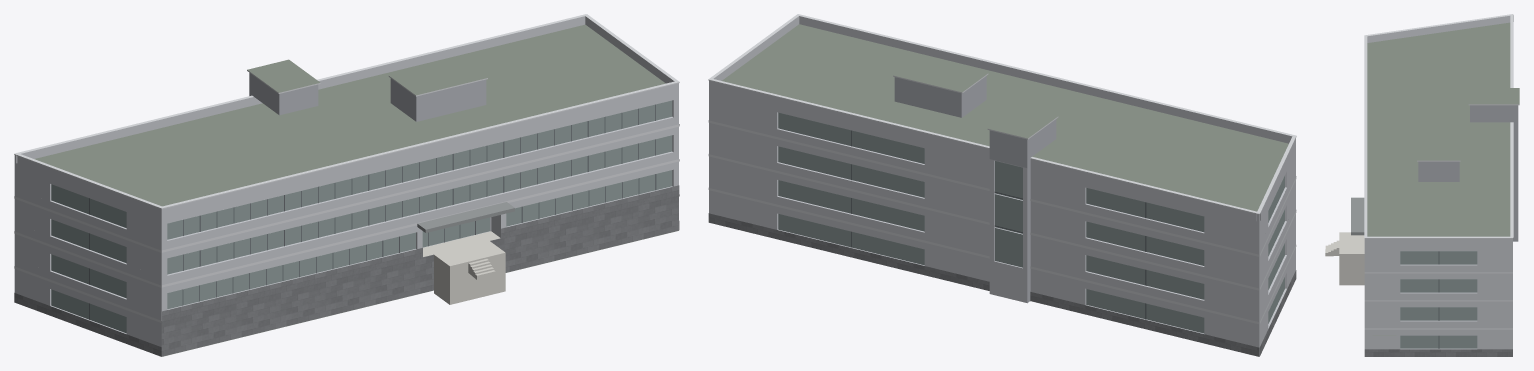
3 views of the same model, side by side, from view 1: azimuth 30°, elevation 25°; view 2: azimuth 150°, elevation 25°; view 3: azimuth 270°, elevation 25° (orthographic). The views are drawn at different scales.
Parts seen in each view (by area): view 1: b137_2__roof, b137_2__wall, b137_2__glass, b137_2__base, b137_2__parapet, b137_2__trim, b137_2__entranceStair, b137_2__wall2, b137_2__frame, b137_2__canopy; view 2: b137_2__wall, b137_2__roof, b137_2__glass, b137_2__parapet, b137_2__trim, b137_2__base, b137_2__wall2; view 3: b137_2__roof, b137_2__wall, b137_2__glass, b137_2__trim, b137_2__wall2, b137_2__parapet, b137_2__entranceStair, b137_2__base, b137_2__canopy.
Part boxes in pixels (x1,y1,x2,y2): b137_2__roof: (34, 24, 678, 356); b137_2__wall: (14, 90, 678, 346); b137_2__glass: (51, 100, 672, 333); b137_2__base: (14, 185, 679, 356); b137_2__parapet: (14, 16, 678, 216); b137_2__trim: (14, 14, 679, 322); b137_2__entranceStair: (423, 231, 505, 304); b137_2__wall2: (249, 73, 486, 121); b137_2__frame: (89, 104, 656, 319); b137_2__canopy: (417, 202, 514, 232); b137_2__wall: (709, 87, 1295, 356); b137_2__roof: (722, 24, 1288, 211); b137_2__glass: (778, 112, 1284, 333); b137_2__parapet: (709, 16, 1295, 221); b137_2__trim: (708, 14, 1296, 324); b137_2__base: (708, 213, 1296, 356); b137_2__wall2: (894, 76, 1056, 302); b137_2__roof: (1367, 22, 1519, 335); b137_2__wall: (1364, 244, 1512, 349); b137_2__glass: (1400, 251, 1477, 348); b137_2__trim: (1364, 14, 1519, 329); b137_2__wall2: (1418, 105, 1518, 241); b137_2__parapet: (1364, 15, 1513, 244); b137_2__entranceStair: (1325, 232, 1364, 285); b137_2__base: (1364, 349, 1512, 356); b137_2__canopy: (1351, 197, 1364, 235).
Size of the model in its own units: 61.58 by 17.97 by 22.54.
11 materials, 1 textured.
